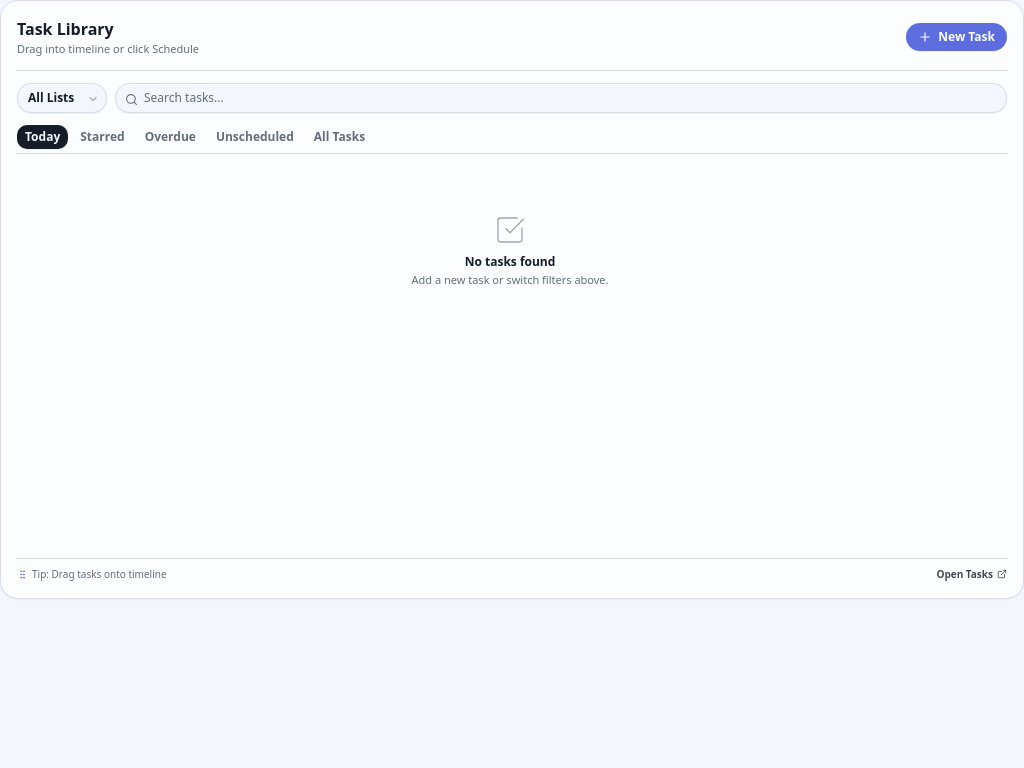
Test: MindDesk Phase 6: Directly Interactive 24-Hour Day Map Experience › maintains task data integrity: MyTasksPanel preserves underlying tasks independently
Note: Create a task in Task Library
Click the button "New Task" at [957, 37], box [906,23,1007,51]
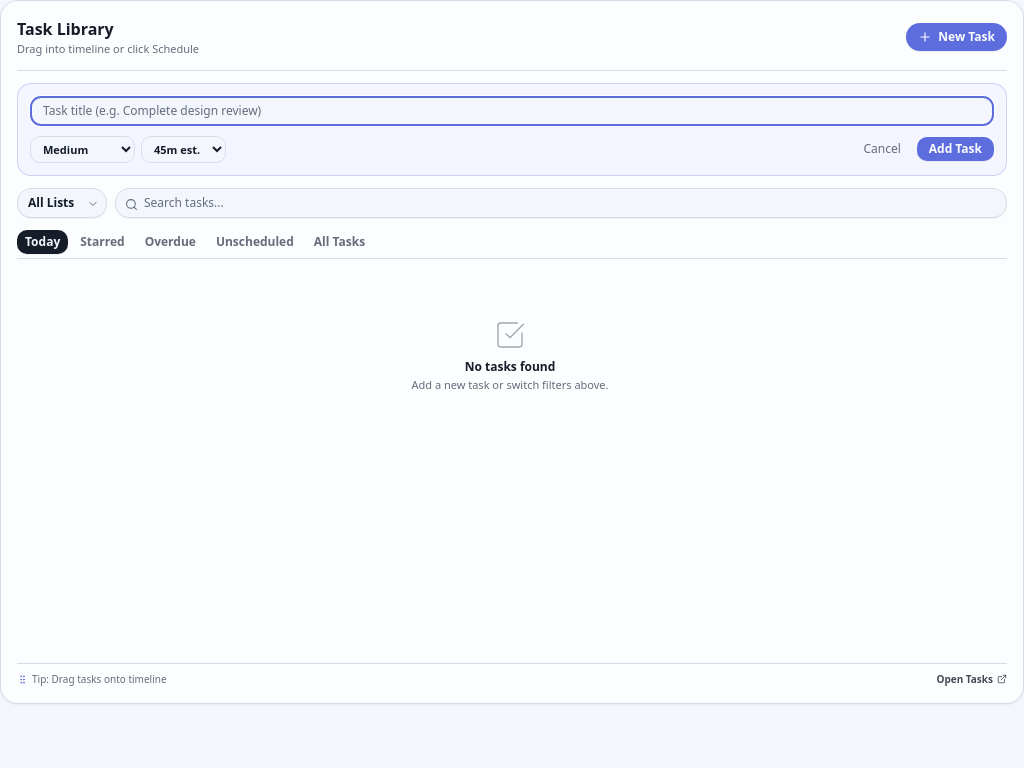
Type "Preserved Google Task" into the field with placeholder "Task title (e.g. Complete design review)" at [512, 110], box [30,96,994,126]
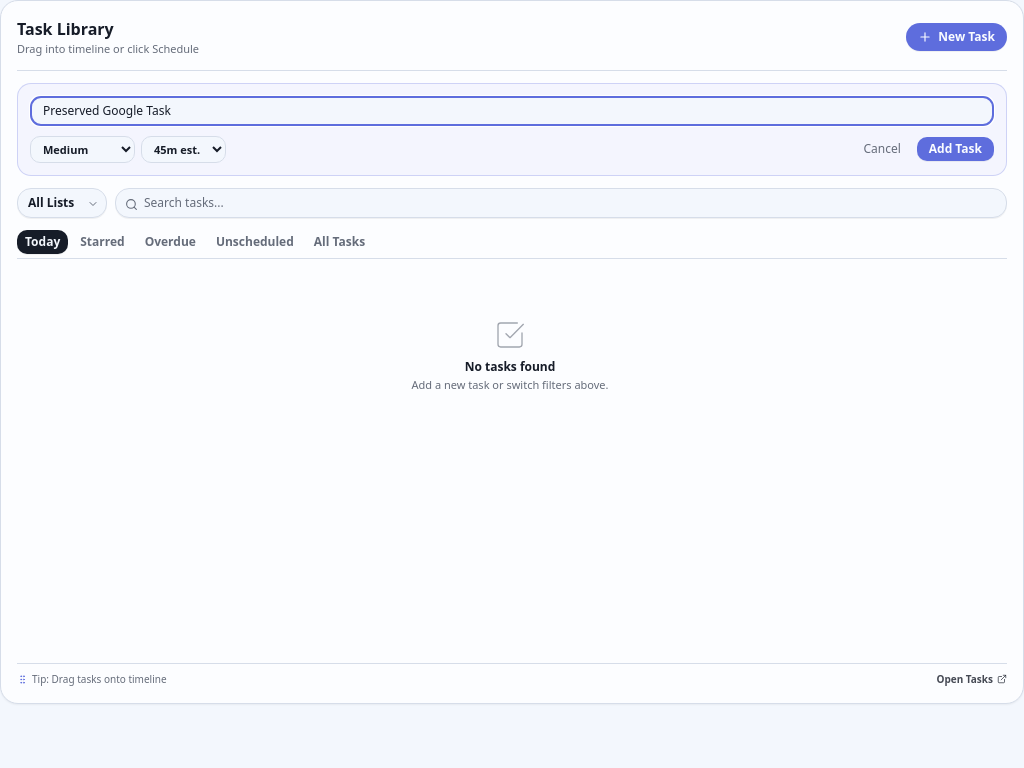
Click the button "Add Task" at [955, 149], box [917,137,994,161]
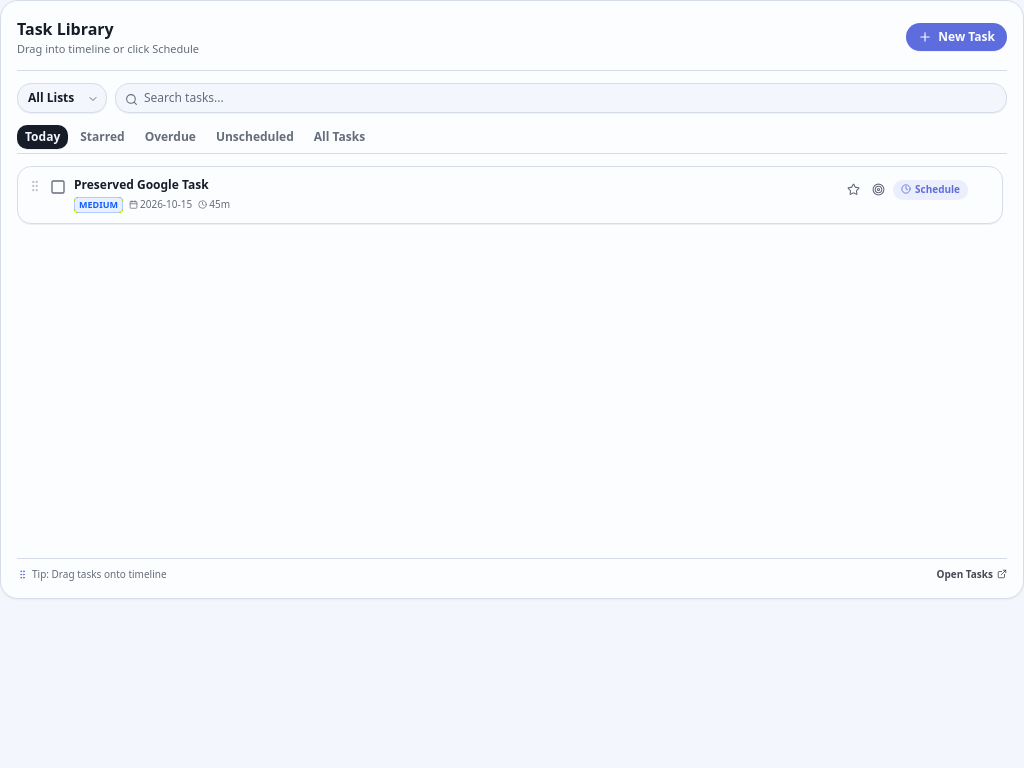
Expected: the text "Preserved Google Task" is shown, [74,176,209,192]
